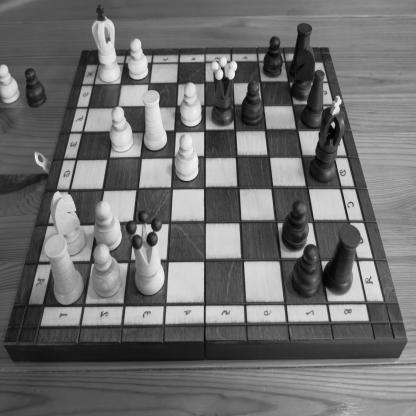black-bishop: (300, 69, 326, 129)
black-king: (309, 94, 346, 184)
black-knight: (290, 43, 316, 102)
black-pawn: (291, 242, 323, 299), (280, 198, 309, 252), (240, 80, 263, 126), (24, 67, 47, 109), (262, 36, 283, 79)
black-queen: (209, 56, 238, 127)
black-rook: (322, 223, 361, 295), (288, 22, 312, 80)
white-king: (91, 3, 121, 83)
white-knight: (53, 195, 90, 263)
white-pawn: (91, 243, 122, 299), (94, 199, 123, 252), (174, 133, 200, 183), (109, 106, 134, 152), (180, 81, 202, 127), (126, 39, 147, 80), (0, 64, 21, 104)
white-queen: (125, 209, 165, 297)
white-rook: (44, 234, 85, 306), (141, 89, 168, 152)
